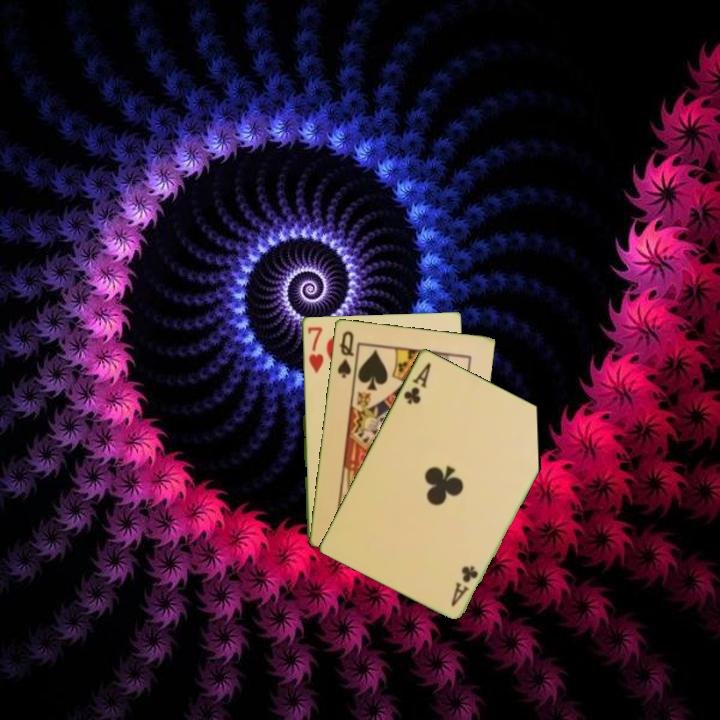7h: (304, 323, 326, 376)
Ac: (400, 358, 434, 407), (447, 561, 481, 609)
Qs: (334, 327, 356, 381)
